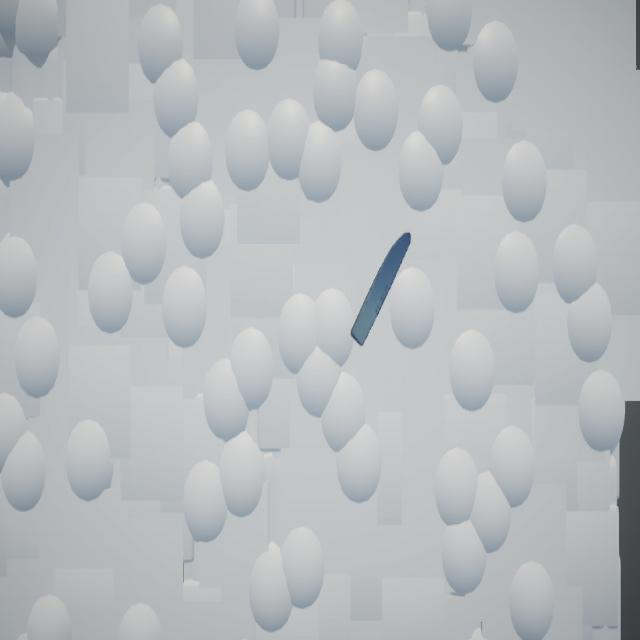top_knife: (351, 233, 412, 347)
